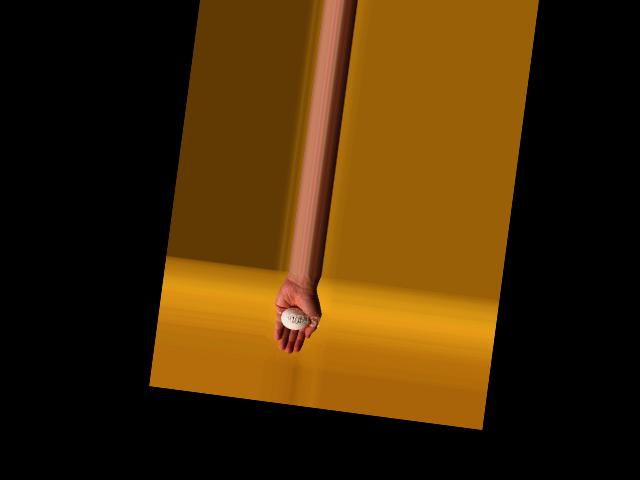egg: (279, 306, 310, 331)
